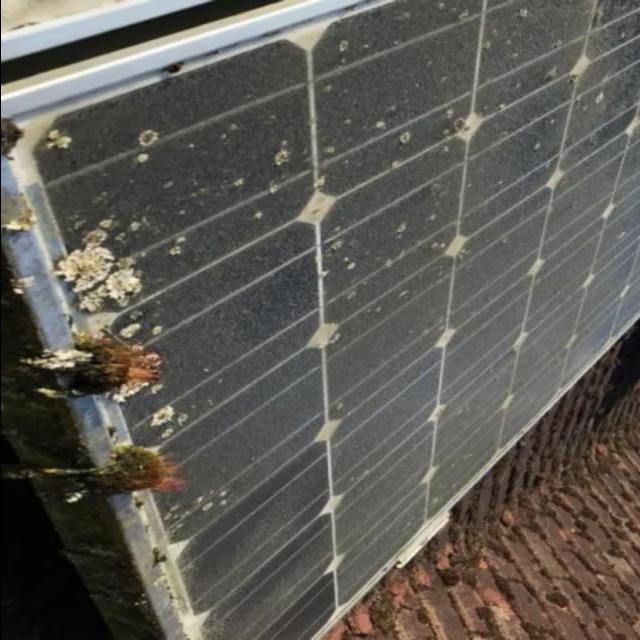soiled: (12, 5, 638, 638)
